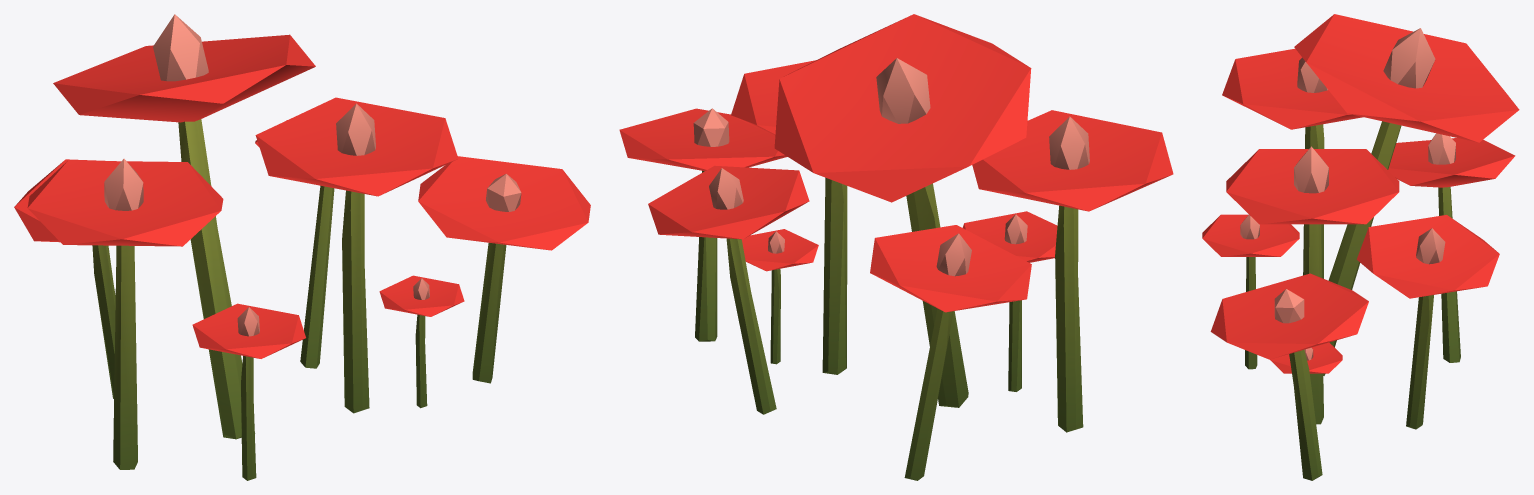
Rendered from Flower_09.fbx.
The picture shows the model from 3 angles, left to right: view 1: azimuth 30°, elevation 25°; view 2: azimuth 150°, elevation 25°; view 3: azimuth 270°, elevation 25°; orthographic projection. The views are drawn at different scales.
Parts seen in each view (by area): view 1: Flower_09; view 2: Flower_09; view 3: Flower_09.
Part boxes in pixels (<box>): Flower_09: <box>14,14,590,480</box>; Flower_09: <box>619,14,1173,480</box>; Flower_09: <box>1202,14,1519,480</box>.
Size of the model in its own units: 38.54 by 27.29 by 22.5.
